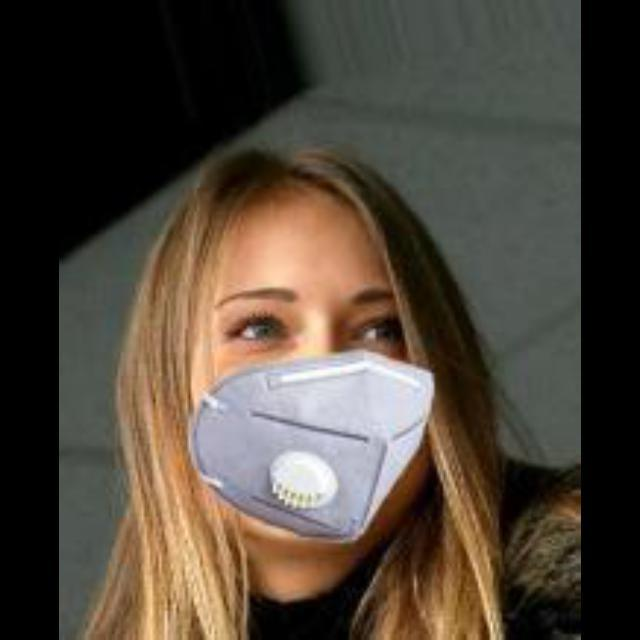suspicion: (169, 126, 439, 578)
